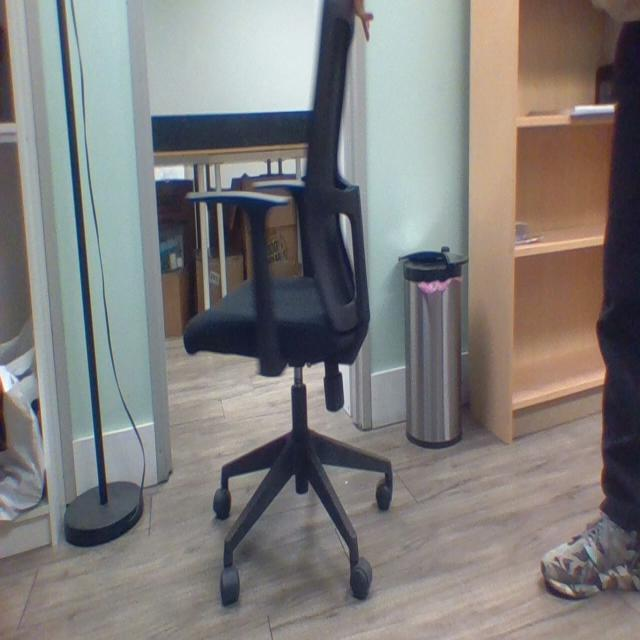chair: (184, 2, 400, 614)
